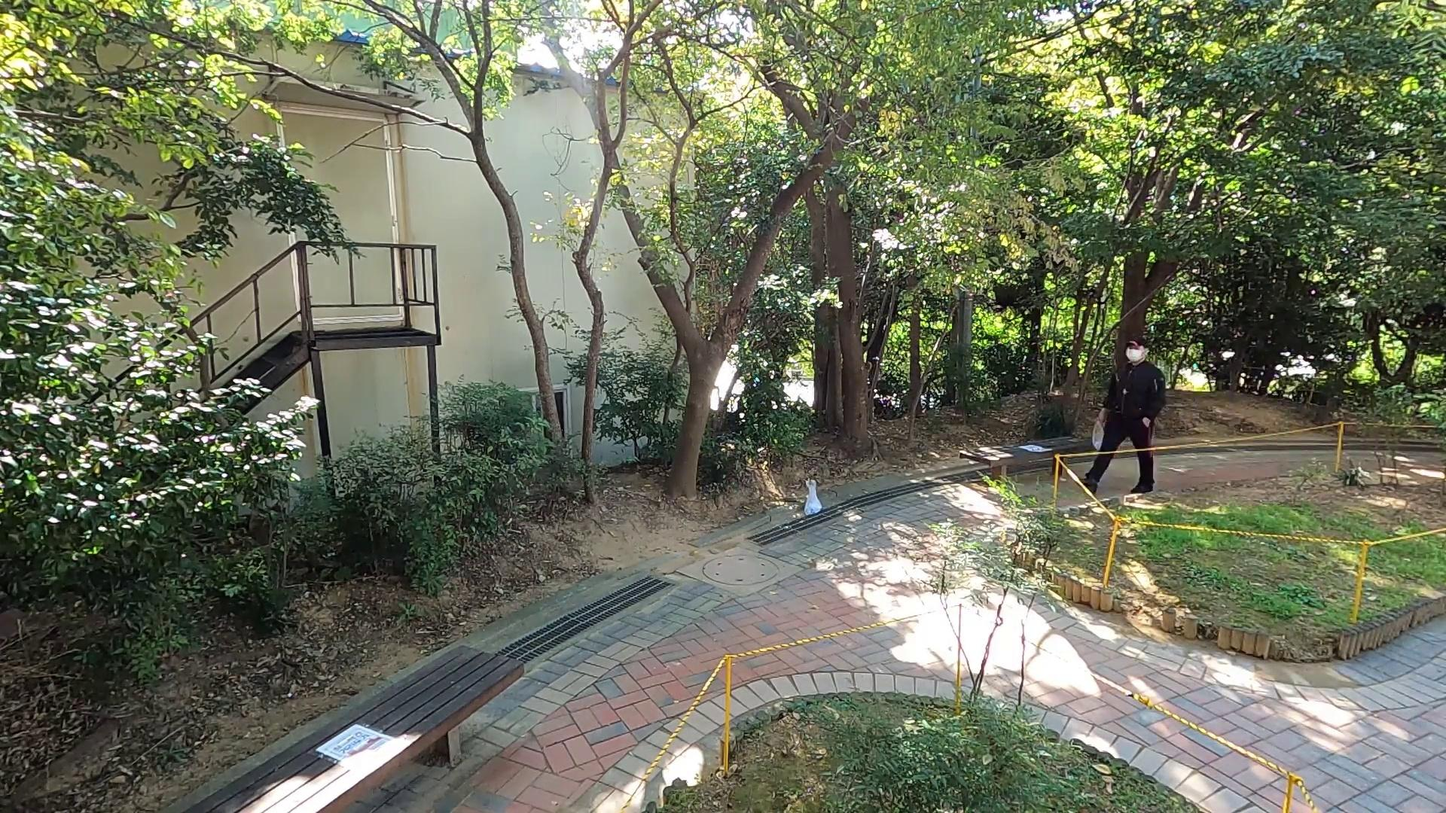person: (1075, 336, 1166, 498)
trash: (803, 478, 822, 515), (1089, 419, 1106, 451)
